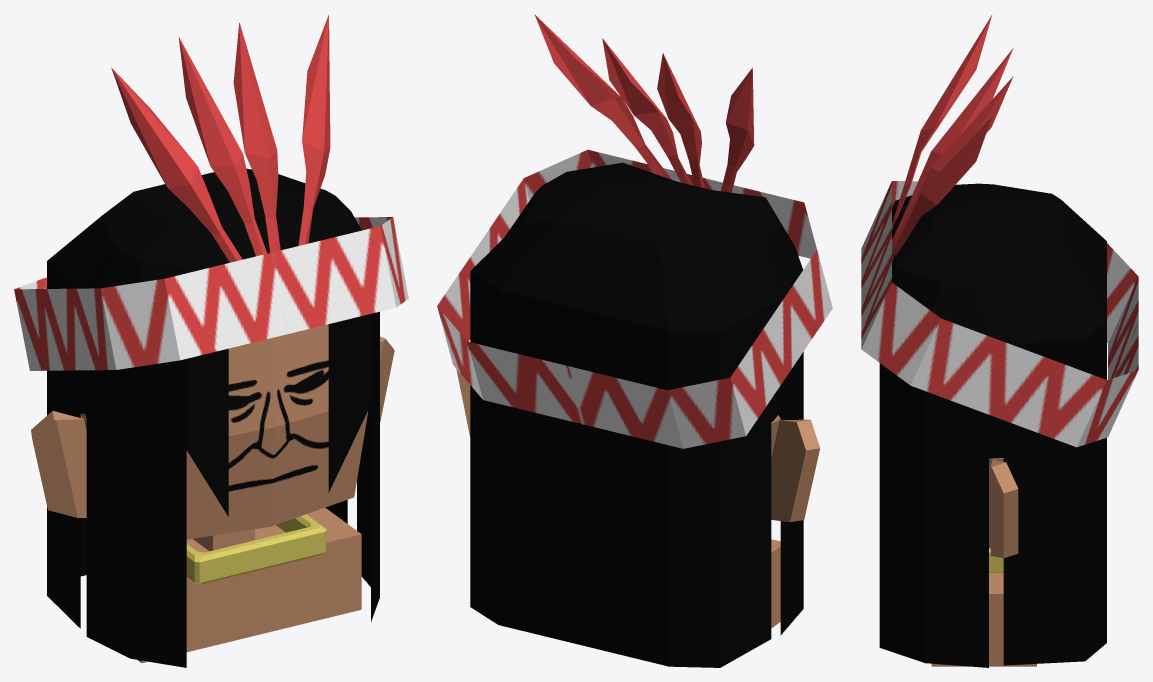
The model's file is apache.glb.
3 renders of one model, left to right at view 1: azimuth 30°, elevation 25°; view 2: azimuth 150°, elevation 25°; view 3: azimuth 270°, elevation 25°, orthographic. The views are drawn at different scales.
Parts seen in each view (by area): view 1: Plane.003, Plane.004, Plane, Plane.005, Plane.006, Plane.002, Plane.001; view 2: Plane.003, Plane.004, Plane.005, Plane, Plane.006; view 3: Plane.003, Plane.004, Plane.005, Plane, Plane.006.
Part boxes in pixels (x1,y1,x2,y2): Plane.003: (47,168,379,667); Plane.004: (14,217,408,370); Plane: (31,324,394,539); Plane.005: (111,14,330,262); Plane.006: (138,507,361,663); Plane.002: (186,514,326,583); Plane.001: (193,529,254,551); Plane.003: (470,162,803,667); Plane.004: (437,149,832,448); Plane.005: (534,14,754,192); Plane: (456,369,819,522); Plane.006: (771,539,780,628); Plane.003: (879,183,1106,667); Plane.004: (861,181,1138,447); Plane.005: (892,15,1013,261); Plane: (989,458,1018,558); Plane.006: (931,573,1036,666).
Size of the model in its own units: 1.8 by 2.73 by 1.24.
Materials: 7 (2 with a texture image).
